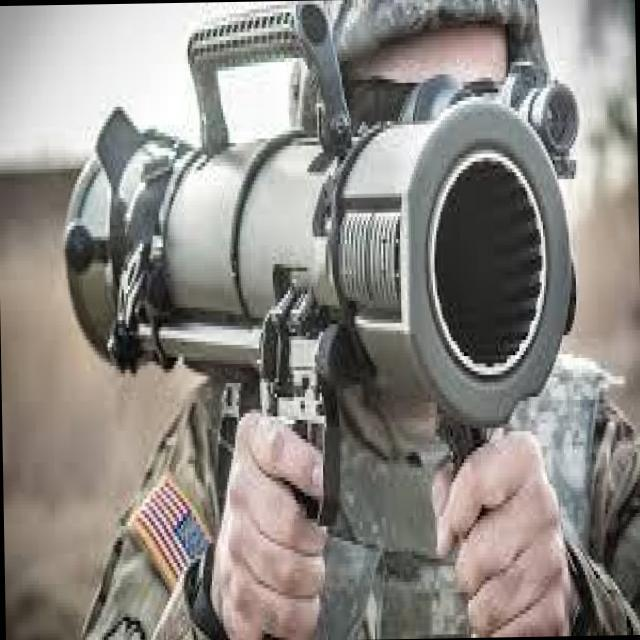rocket: (55, 3, 588, 447)
